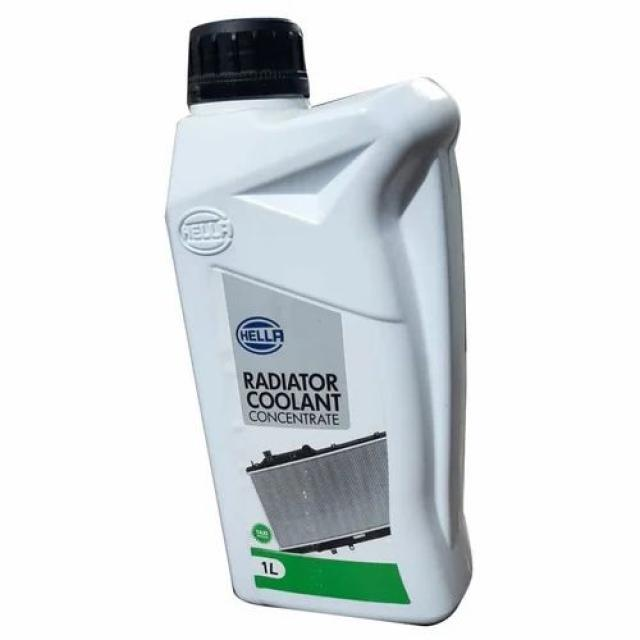coolant: (161, 16, 485, 631)
